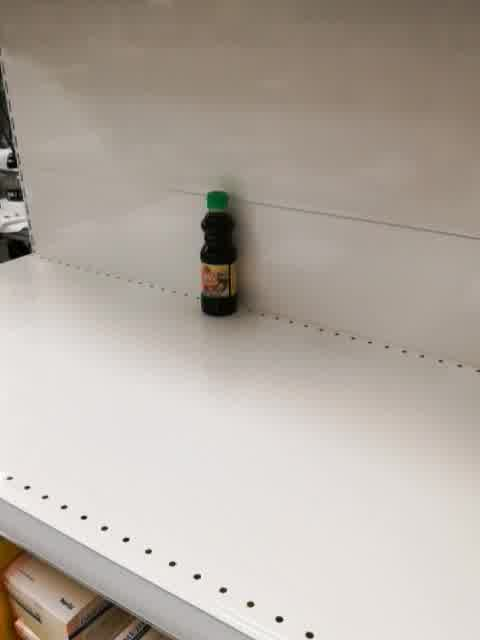cookingoil: (196, 189, 241, 319)
